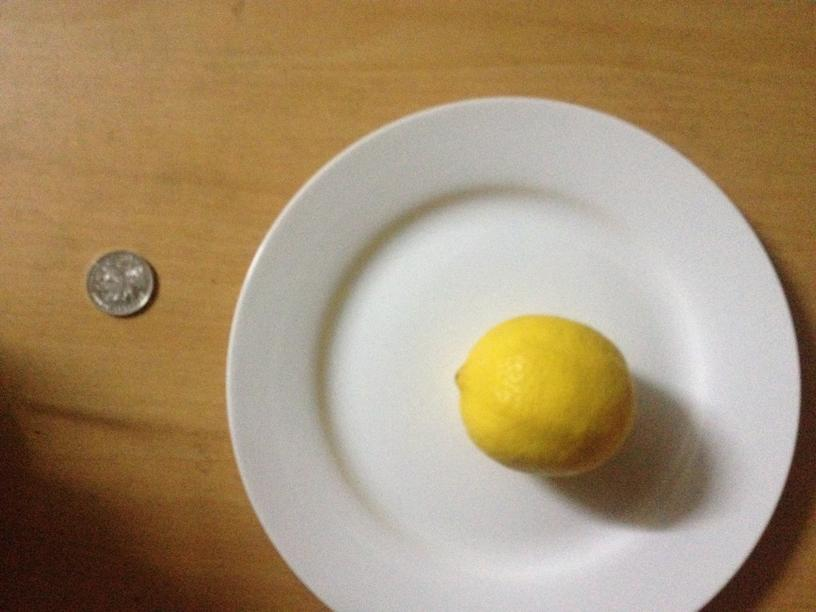coin: (84, 246, 154, 319)
lemon: (450, 315, 634, 478)
